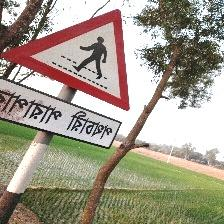Pedestrian-crossing: (0, 7, 130, 152)
